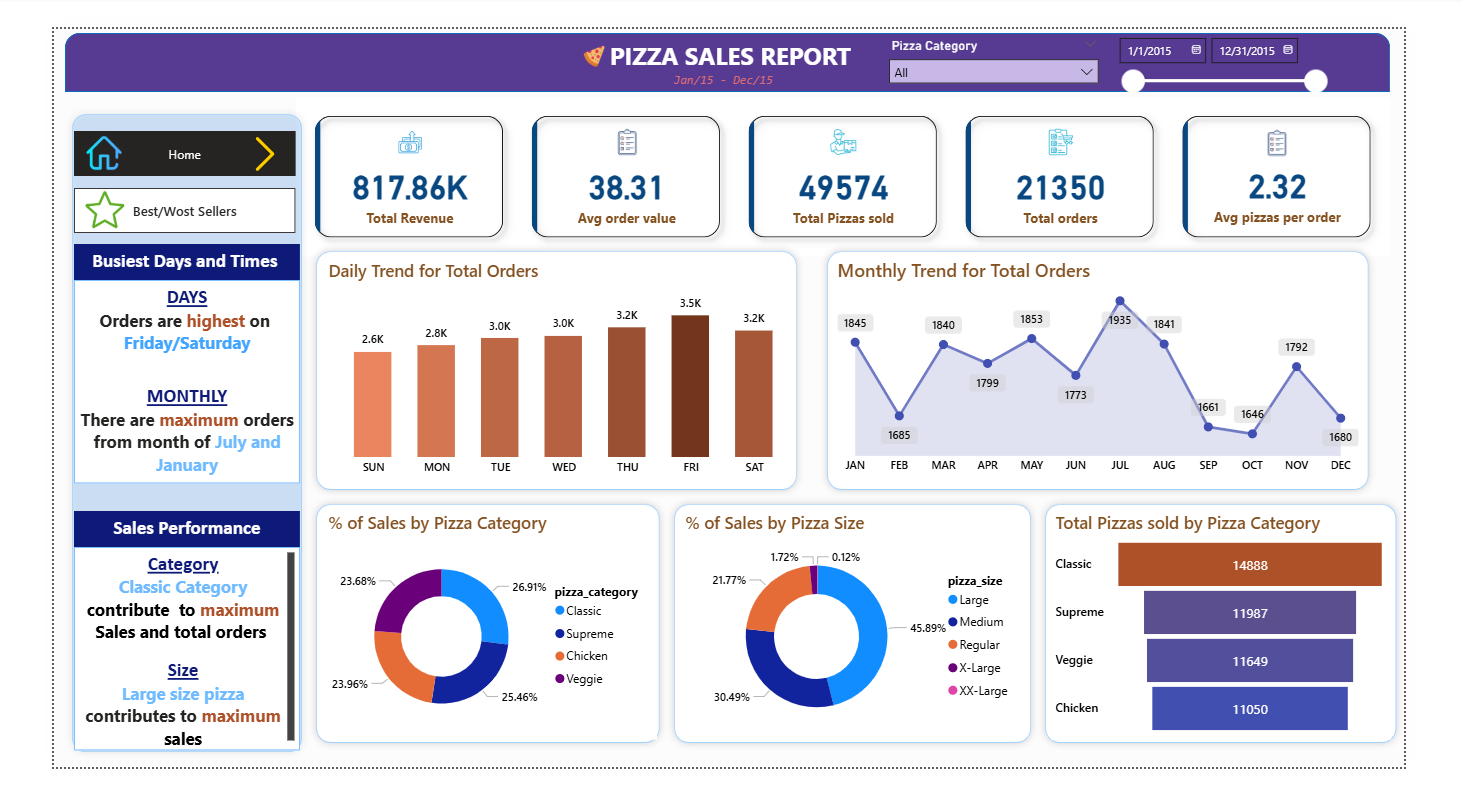

What the dashboard file says about the page in this screenshot:
{"tool":"powerbi","page":{"name":"Home","canvas":[1500,820],"ordinal":0},"visuals":[{"type":"cardVisual","fields":{"Data":["pizza_sales.Total Revenue","pizza_sales.Avg order value","pizza_sales.Total Pizzas sold","pizza_sales.Total orders","pizza_sales.Avg pizzas per order"]},"box":[269,75.9,1216.1,177],"z":0},{"type":"shape","box":[12.6,4.6,1472.4,65.5],"z":1000},{"type":"textbox","box":[547.5,5,407.5,52.5],"z":2000},{"type":"textbox","box":[635,42.5,216.2,33.8],"z":3000},{"type":"image","box":[492.5,13.8,215,33.8],"z":4000},{"type":"shape","box":[283.8,238.8,550,281.2],"z":5000},{"type":"columnChart","title":"Daily Trend for Total Orders","fields":{"Category":["pizza_sales.Order Day"],"Y":["pizza_sales.Total orders"]},"box":[300,255,533.8,250],"z":6000},{"type":"shape","box":[851.2,238.8,617.5,281.2],"z":7000},{"type":"areaChart","title":"Monthly Trend for Total Orders","fields":{"Y":["pizza_sales.Total orders"],"Category":["pizza_sales.Order Month"]},"box":[865,253.8,588.8,250],"z":8000},{"type":"shape","box":[283.8,520,397.5,281.2],"z":9000},{"type":"shape","box":[681.2,520,412.5,281.2],"z":10000},{"type":"shape","box":[1093.8,520,406.2,281.2],"z":11000},{"type":"donutChart","title":"% of Sales by Pizza Category","fields":{"Y":["pizza_sales.Total Revenue"],"Category":["pizza_sales.pizza_category"]},"box":[300,535,370,253.8],"z":12000},{"type":"donutChart","title":"% of Sales by Pizza Size","fields":{"Y":["pizza_sales.Total Revenue"],"Category":["pizza_sales.pizza_size"]},"box":[696.2,535,381.2,253.8],"z":13000},{"type":"shape","box":[12.5,86.2,271.2,725],"z":14000},{"type":"funnel","title":"Total Pizzas sold by Pizza Category","fields":{"Category":["pizza_sales.pizza_category"],"Y":["pizza_sales.Total Pizzas sold"]},"box":[1107.5,535,377.5,253.8],"z":15000},{"type":"textbox","box":[22.5,238.8,251.2,40],"z":16000},{"type":"textbox","box":[22.5,278.8,251.2,226.2],"z":17000},{"type":"textbox","box":[22.5,535,251.2,40],"z":18000},{"type":"textbox","box":[22.5,575,251.2,226.2],"z":19000},{"type":"slicer","fields":{"Values":["pizza_sales.pizza_category"]},"box":[917.5,5,252.5,65],"z":20000},{"type":"slicer","fields":{"Values":["pizza_sales.order_date"]},"box":[1171.2,0,252.5,76.2],"z":21000},{"type":"pageNavigator","box":[22.5,113.8,246.2,50],"z":21001},{"type":"pageNavigator","box":[22.5,176.2,246.2,50],"z":21002},{"type":"image","box":[210,113.8,48.8,50],"z":21003},{"type":"image","box":[31.2,112.5,48.8,51.2],"z":21004},{"type":"image","box":[30,172.5,52.5,57.5],"z":21005}]}

Visuals, with their boxes in screenshot pixels (x1, y1, x2, y2), scaled from the page's 1500x820 canvas onto the 1462x798 screenshot:
cardVisual - pizza_sales.Total Revenue x pizza_sales.Avg order value: (left=262, top=74, right=1447, bottom=246)
shape: (left=12, top=4, right=1447, bottom=68)
textbox: (left=534, top=5, right=931, bottom=56)
textbox: (left=619, top=41, right=830, bottom=74)
image: (left=480, top=13, right=690, bottom=46)
shape: (left=277, top=232, right=813, bottom=506)
"Daily Trend for Total Orders" columnChart: (left=292, top=248, right=813, bottom=491)
shape: (left=830, top=232, right=1431, bottom=506)
"Monthly Trend for Total Orders" areaChart: (left=843, top=247, right=1417, bottom=490)
shape: (left=277, top=506, right=664, bottom=780)
shape: (left=664, top=506, right=1066, bottom=780)
shape: (left=1066, top=506, right=1461, bottom=780)
"% of Sales by Pizza Category" donutChart: (left=292, top=521, right=653, bottom=768)
"% of Sales by Pizza Size" donutChart: (left=679, top=521, right=1050, bottom=768)
shape: (left=12, top=84, right=277, bottom=789)
"Total Pizzas sold by Pizza Category" funnel: (left=1079, top=521, right=1447, bottom=768)
textbox: (left=22, top=232, right=267, bottom=271)
textbox: (left=22, top=271, right=267, bottom=491)
textbox: (left=22, top=521, right=267, bottom=560)
textbox: (left=22, top=560, right=267, bottom=780)
slicer - pizza_sales.pizza_category: (left=894, top=5, right=1140, bottom=68)
slicer - pizza_sales.order_date: (left=1142, top=0, right=1388, bottom=74)
pageNavigator: (left=22, top=111, right=262, bottom=159)
pageNavigator: (left=22, top=171, right=262, bottom=220)
image: (left=205, top=111, right=252, bottom=159)
image: (left=30, top=109, right=78, bottom=159)
image: (left=29, top=168, right=80, bottom=224)
